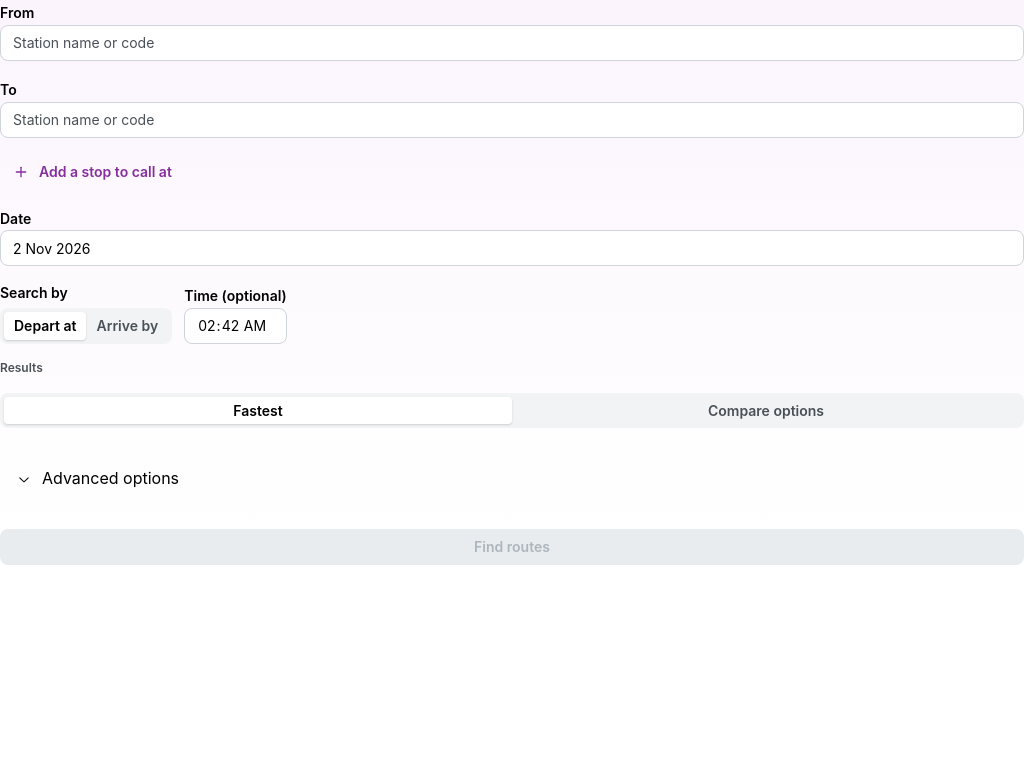
Test: PlanTripFlow advanced options › explains a via no route passes, with what to try
The width and height of the screenshot is (1024, 768).
Type "EUS" into the dropdown labelled "From".
click(512, 43); type("EUS")  # box [0,25,1023,61]
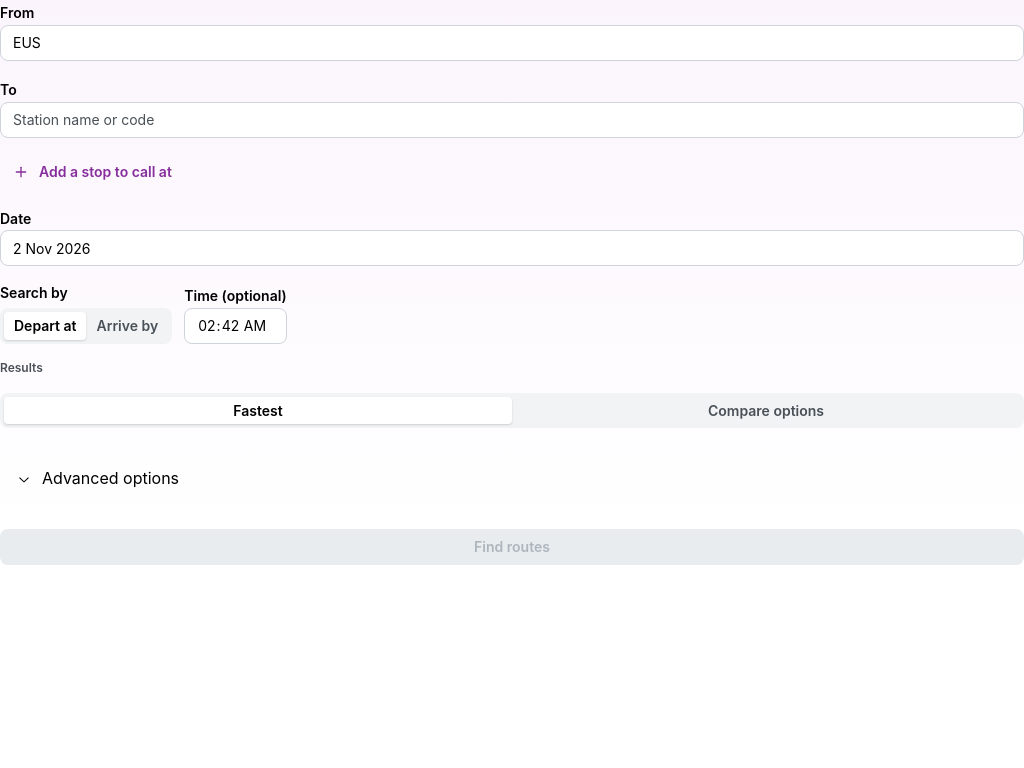
Type "PRE" into the dropdown labelled "To".
click(512, 120); type("PRE")  # box [0,102,1023,138]
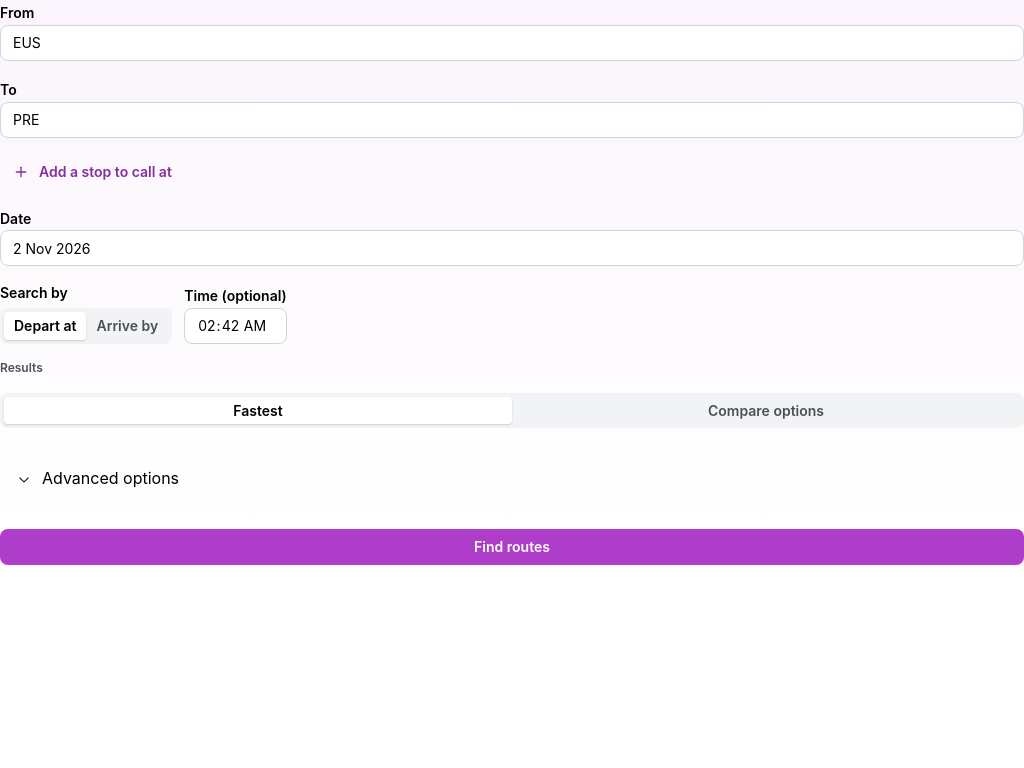
Click the button "Find routes".
click(512, 547)  # box [0,529,1023,565]
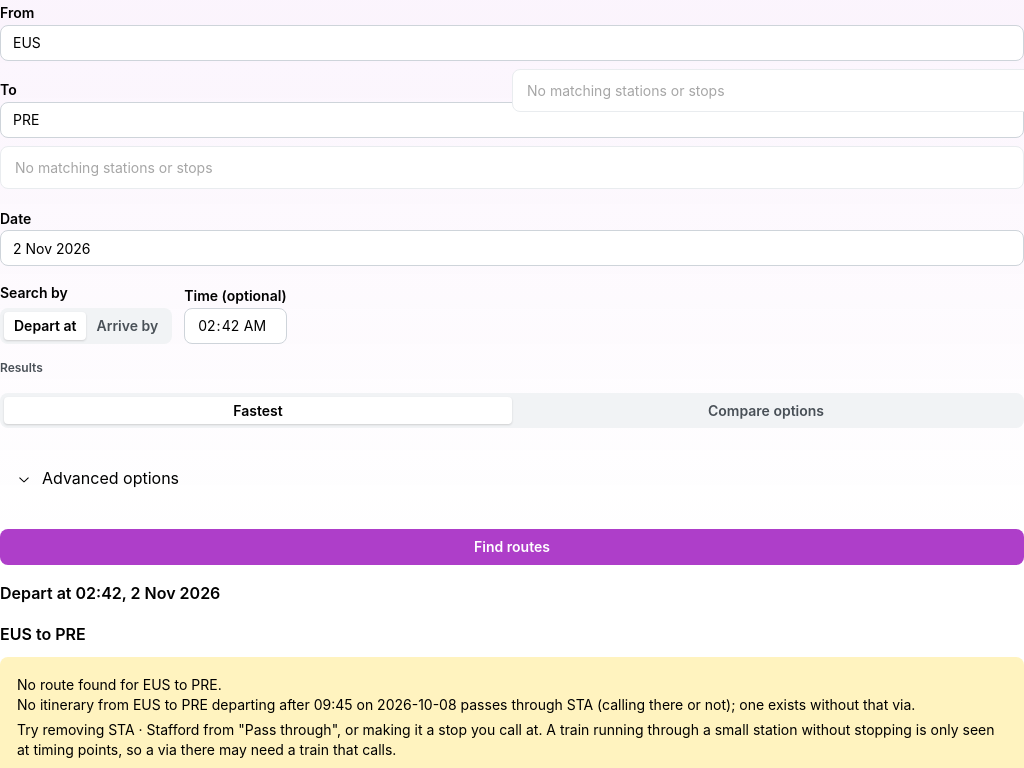
Now the text "passes through STA (calling there or not)" is shown, box [17,696,915,713]
Now the text "Try removing STA · Stafford from \"Pass through\"" is shown, box [17,721,994,758]
